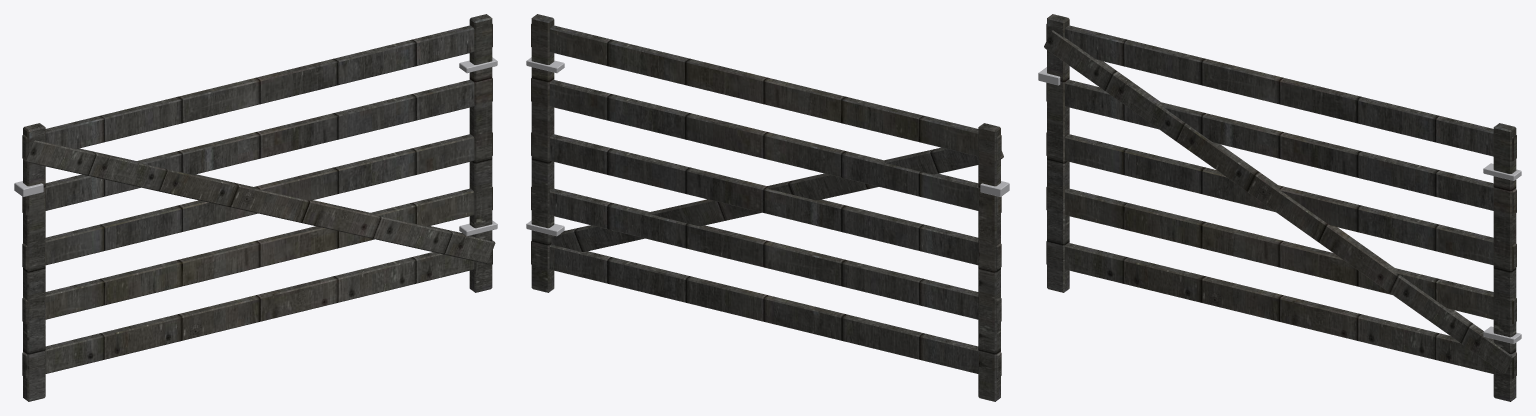
File: pen_gate_a.glb
3 renders of one model, left to right at view 1: azimuth 30°, elevation 25°; view 2: azimuth 150°, elevation 25°; view 3: azimuth 330°, elevation 25°, orthographic.
Visible parts, largest first — view 1: pen_gate_a_gate; view 2: pen_gate_a_gate; view 3: pen_gate_a_gate.
Part boxes in pixels (x1=…): pen_gate_a_gate: x1=14, y1=14, x2=497, y2=401; pen_gate_a_gate: x1=526, y1=14, x2=1009, y2=401; pen_gate_a_gate: x1=1038, y1=14, x2=1521, y2=401.
Size of what is drawn, in the model's own units: 1.83 by 1 by 0.06.
2 materials, 1 textured.
